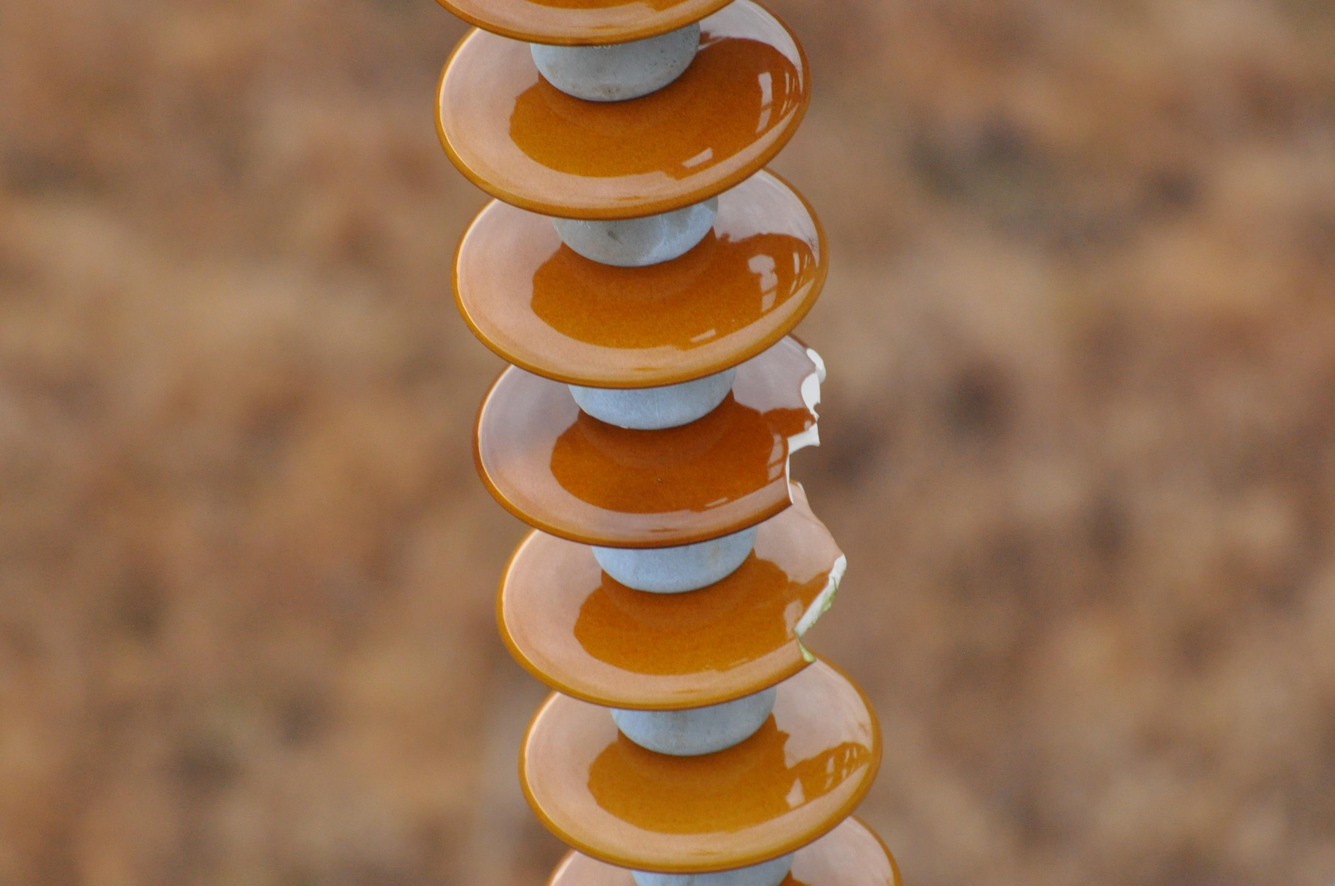damaged: (721, 337, 831, 517), (768, 477, 856, 675)
insulator: (436, 0, 902, 881)
